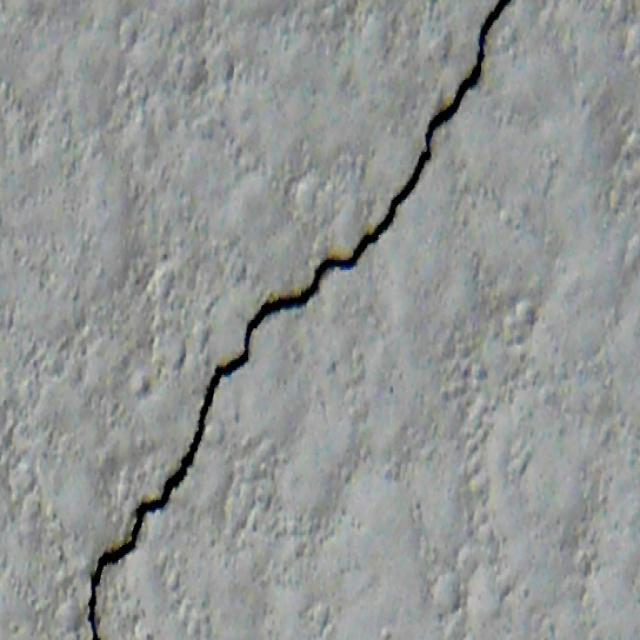Diagonal: (58, 0, 515, 640)
